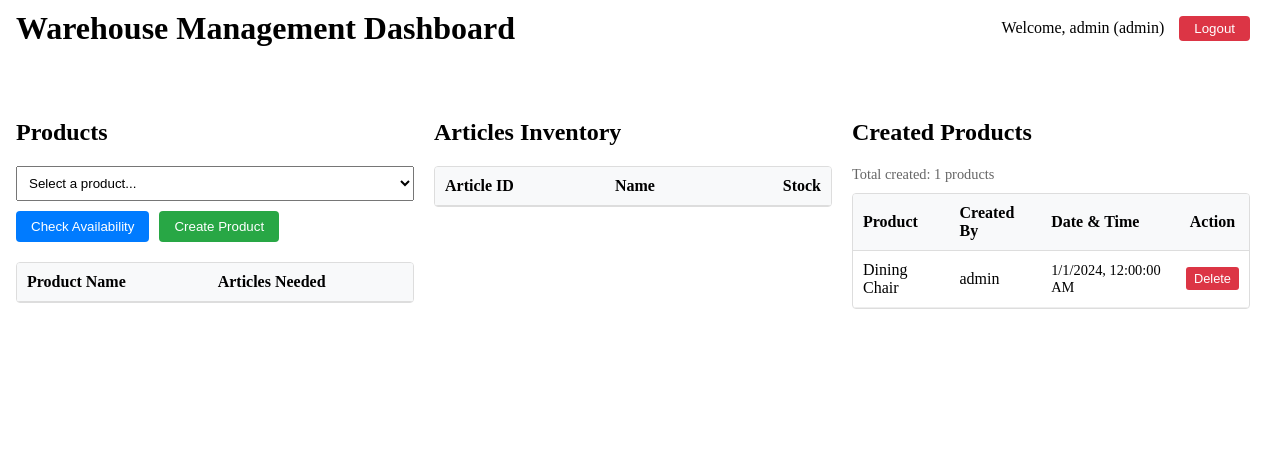
Test: Dashboard Component › shows error when deleting product fails
Expected: the text "Total created: 1 products" is shown, [852,166,994,182]
What coordinates should you click on to do the following:
click the button "Delete"
I would click on:
 (1212, 279)
Its box is [1186,267,1239,290].
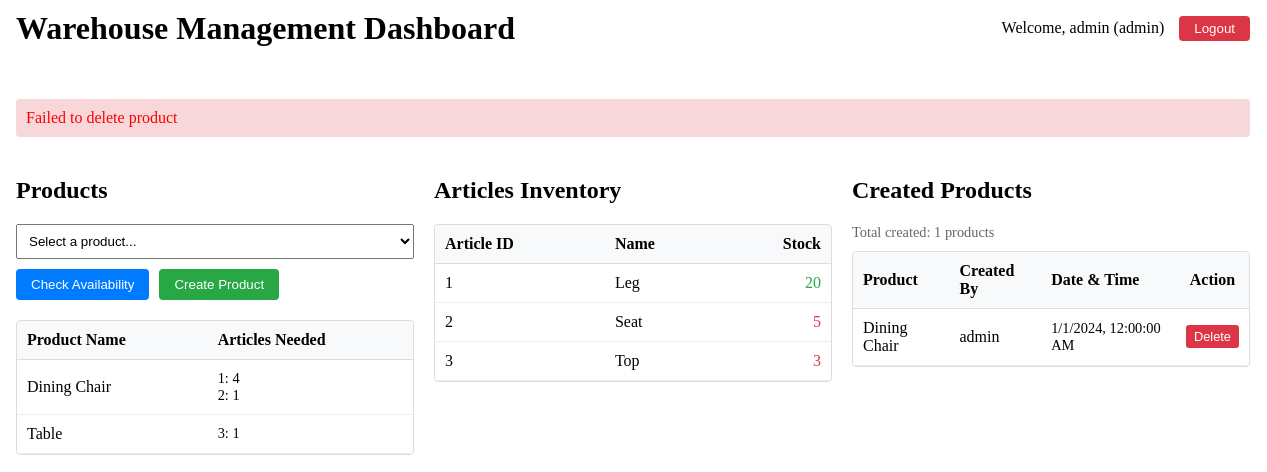
Now the text "Failed to delete product" is shown, box [16,99,1250,137]
